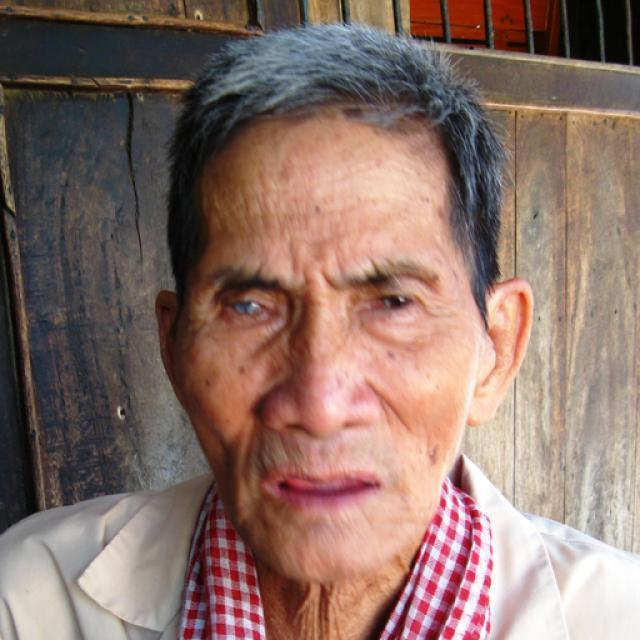0_rostro_limpio: (171, 26, 532, 582)
